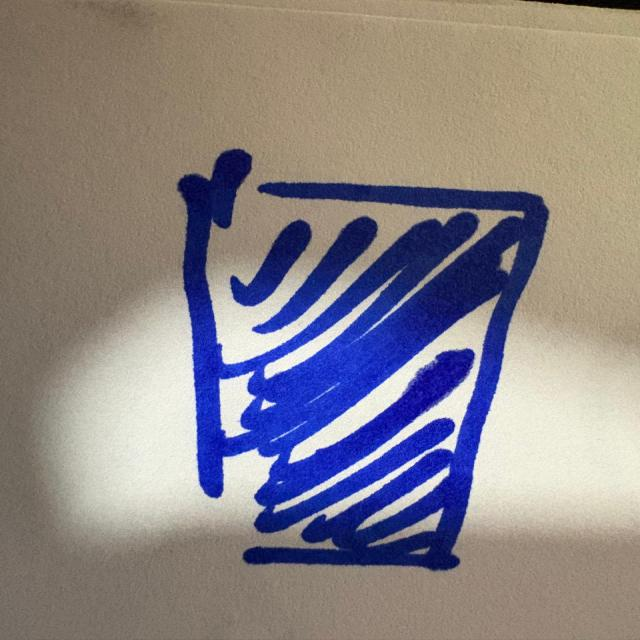Rectangle: (161, 142, 556, 580)
